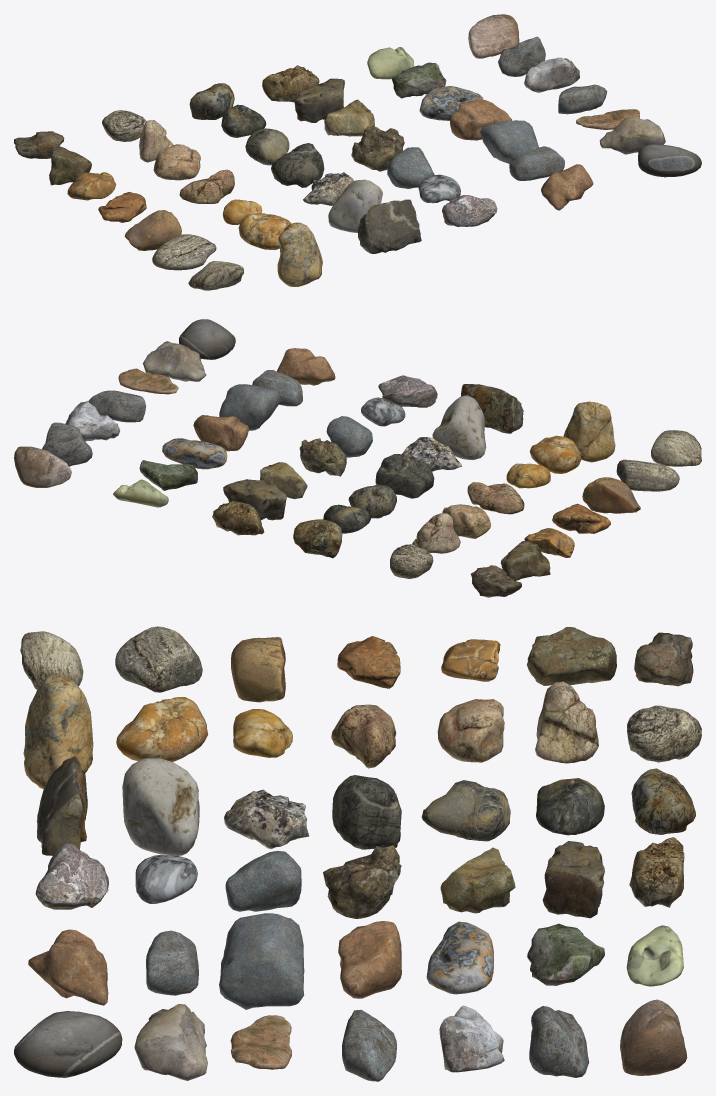
3 renders of one model, top to bottom at view 1: azimuth 30°, elevation 25°; view 2: azimuth 150°, elevation 25°; view 3: azimuth 270°, elevation 25°, orthographic. The views are drawn at different scales.
Parts seen in each view (by area): view 1: rock21_lr, rock14_lr, rock33_lr, rock20_lr, rock44_lr, rock42_lr, rock06_lr, rock18_lr, rock25_lr, rock41_lr, rock23_lr, rock32_lr (+30 smaller); view 2: rock20_lr, rock14_lr, rock33_lr, rock21_lr, rock18_lr, rock44_lr, rock41_lr, rock23_lr, rock42_lr, rock05_lr, rock06_lr, rock07_lr (+30 smaller); view 3: rock33_lr, rock20_lr, rock14_lr, rock42_lr, rock13_lr, rock18_lr, rock41_lr, rock06_lr, rock02_lr, rock32_lr, rock44_lr, rock09_lr (+30 smaller).
Boxes of the visible parts, x1,y1,x2,y2 form: rock21_lr: [358, 199, 421, 253]; rock14_lr: [277, 222, 322, 286]; rock33_lr: [480, 120, 538, 163]; rock20_lr: [328, 179, 382, 232]; rock44_lr: [468, 14, 519, 58]; rock42_lr: [638, 144, 701, 177]; rock06_lr: [152, 234, 216, 270]; rock18_lr: [271, 143, 324, 187]; rock25_lr: [351, 125, 404, 171]; rock41_lr: [599, 117, 665, 154]; rock23_lr: [294, 78, 344, 122]; rock32_lr: [450, 99, 511, 140]; rock20_lr: [432, 395, 486, 459]; rock14_lr: [563, 401, 615, 462]; rock33_lr: [219, 384, 280, 430]; rock21_lr: [461, 384, 523, 433]; rock18_lr: [375, 454, 434, 498]; rock44_lr: [14, 446, 71, 487]; rock41_lr: [143, 341, 206, 381]; rock23_lr: [223, 479, 286, 520]; rock42_lr: [179, 319, 235, 359]; rock05_lr: [582, 477, 640, 513]; rock06_lr: [616, 459, 679, 491]; rock07_lr: [651, 430, 701, 466]; rock33_lr: [219, 913, 304, 1009]; rock20_lr: [122, 758, 199, 855]; rock14_lr: [23, 673, 93, 788]; rock42_lr: [14, 1011, 122, 1077]; rock13_lr: [116, 697, 208, 761]; rock18_lr: [332, 775, 401, 849]; rock41_lr: [134, 1004, 207, 1080]; rock06_lr: [115, 626, 202, 692]; rock02_lr: [527, 627, 616, 685]; rock32_lr: [338, 921, 401, 998]; rock44_lr: [620, 999, 687, 1075]; rock09_lr: [535, 681, 598, 763].
Size of the model in its own units: 397 by 42.29 by 266.
Materials: 42 (42 with a texture image).
